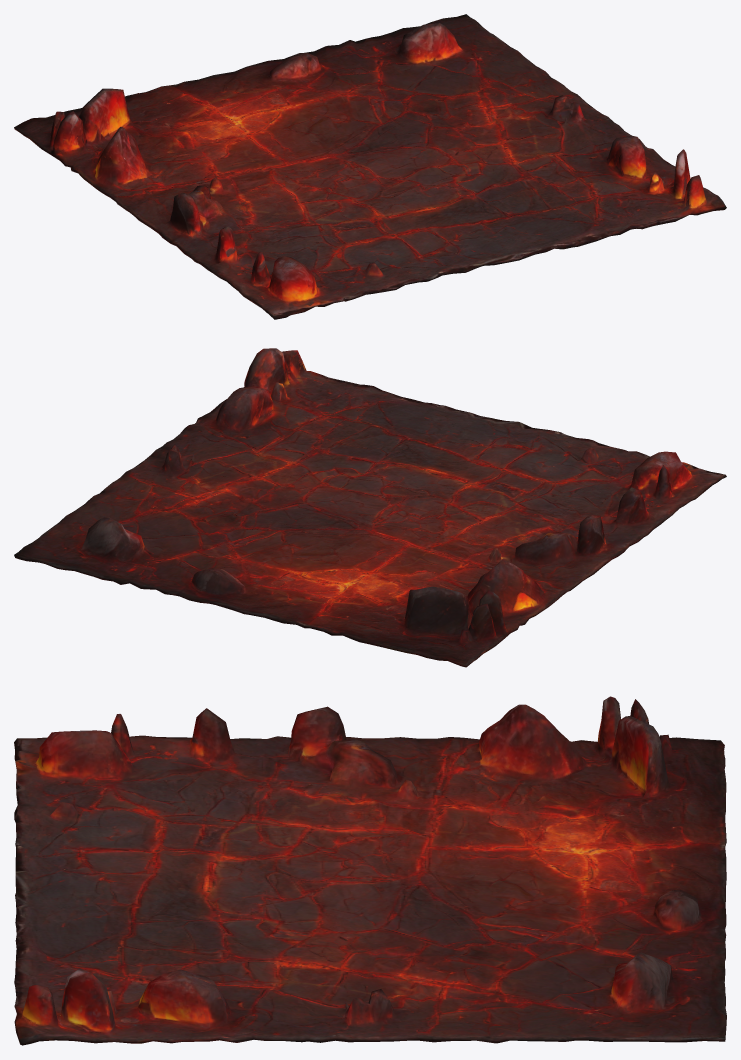
Rendered from A_grand_war_torn_bat_0106180113_texture.fbx.
3 renders of one model, top to bottom at view 1: azimuth 30°, elevation 25°; view 2: azimuth 150°, elevation 25°; view 3: azimuth 270°, elevation 25°, orthographic. The views are drawn at different scales.
Parts seen in each view (by area): view 1: Mesh1_Mesh1.020; view 2: Mesh1_Mesh1.020; view 3: Mesh1_Mesh1.020.
Part boxes in pixels (left/top/right/bottom): Mesh1_Mesh1.020: left=14, top=14, right=726, bottom=319; Mesh1_Mesh1.020: left=14, top=348, right=726, bottom=667; Mesh1_Mesh1.020: left=14, top=696, right=726, bottom=1045.
Bounding box in the file's own units: 202 × 20.28 × 201.
Materials: 1 (1 with a texture image).
